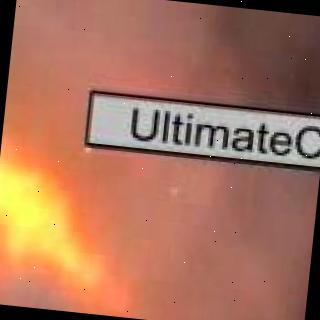fire: (0, 127, 161, 319)
